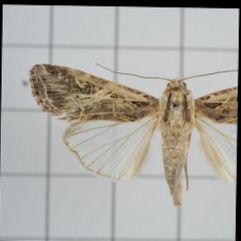Spodoptera litura: (26, 62, 237, 206)
